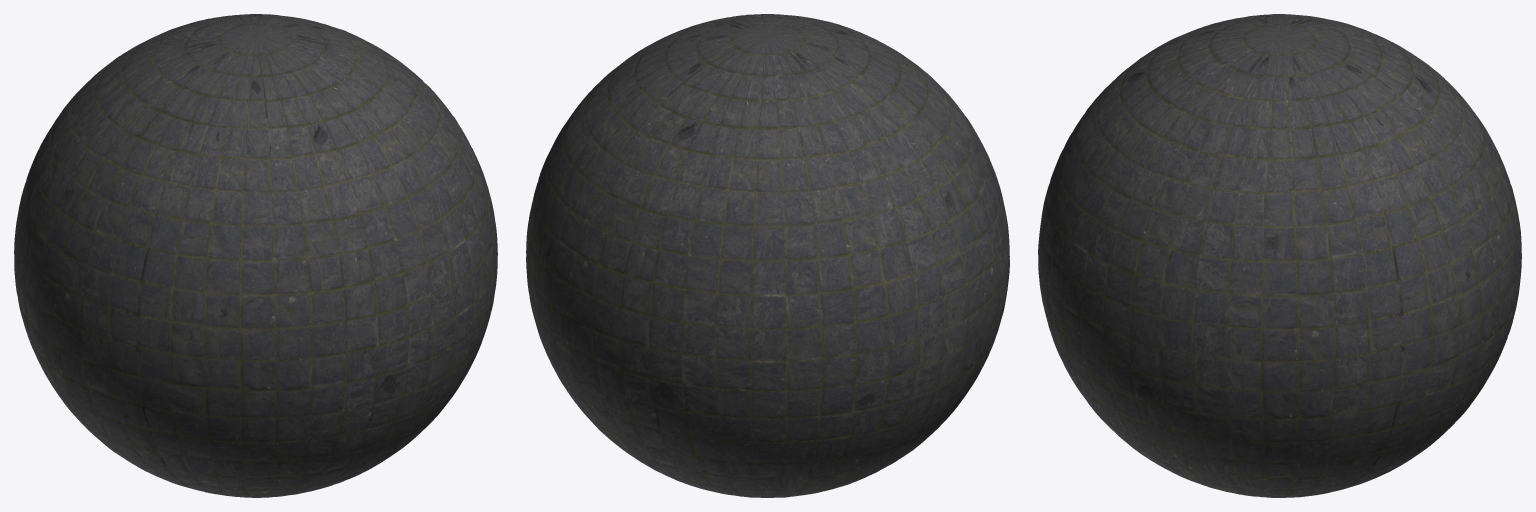
File: square_floor.gltf
The picture shows the model from 3 angles, left to right: view 1: azimuth 30°, elevation 25°; view 2: azimuth 150°, elevation 25°; view 3: azimuth 270°, elevation 25°; orthographic projection.
Parts seen in each view (by area): view 1: sphere_gltf; view 2: sphere_gltf; view 3: sphere_gltf.
Part boxes in pixels (box(x1,y1,x2,y2)): sphere_gltf: box(14, 14, 497, 497); sphere_gltf: box(526, 14, 1009, 497); sphere_gltf: box(1038, 14, 1521, 497).
Size of the model in its own units: 2 by 2.01 by 2.
1 material, 1 textured.
